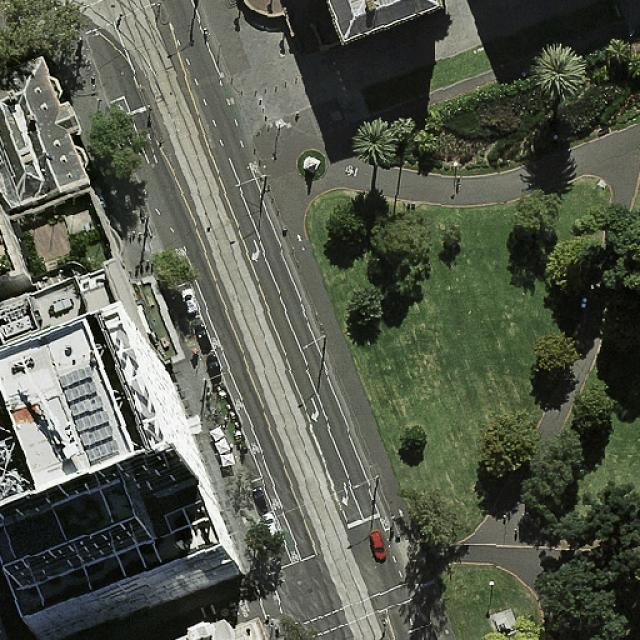Bike-Symbols: (172, 247, 188, 260), (269, 498, 283, 512), (379, 516, 392, 530), (232, 397, 245, 410), (113, 101, 126, 114), (249, 443, 263, 455), (208, 337, 222, 349), (247, 162, 260, 174), (288, 550, 299, 560)
